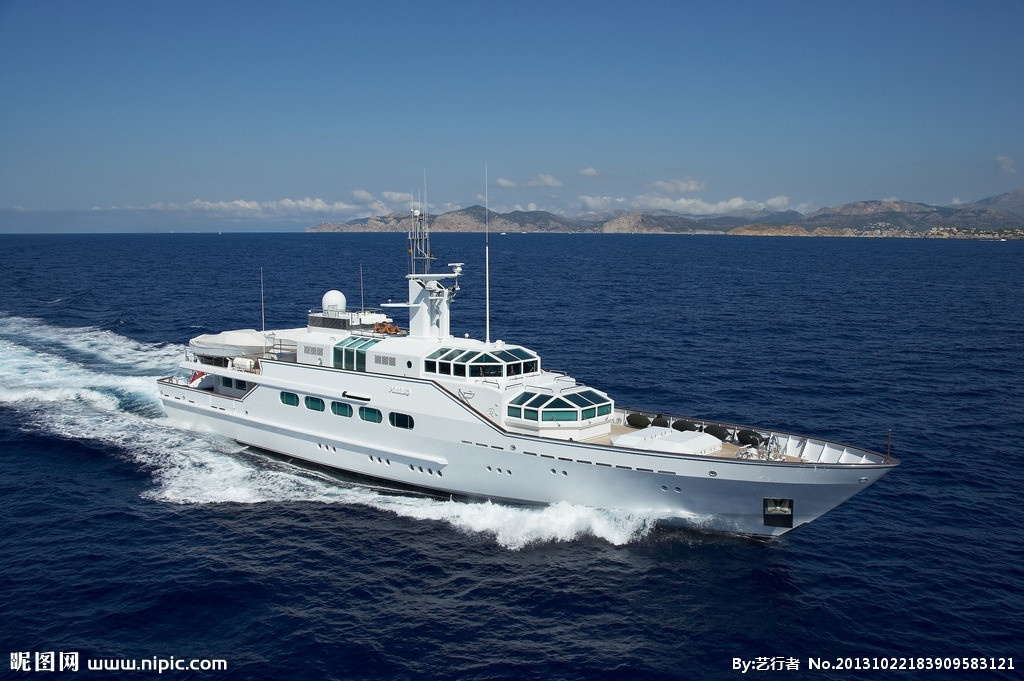yacht: (144, 224, 901, 546)
